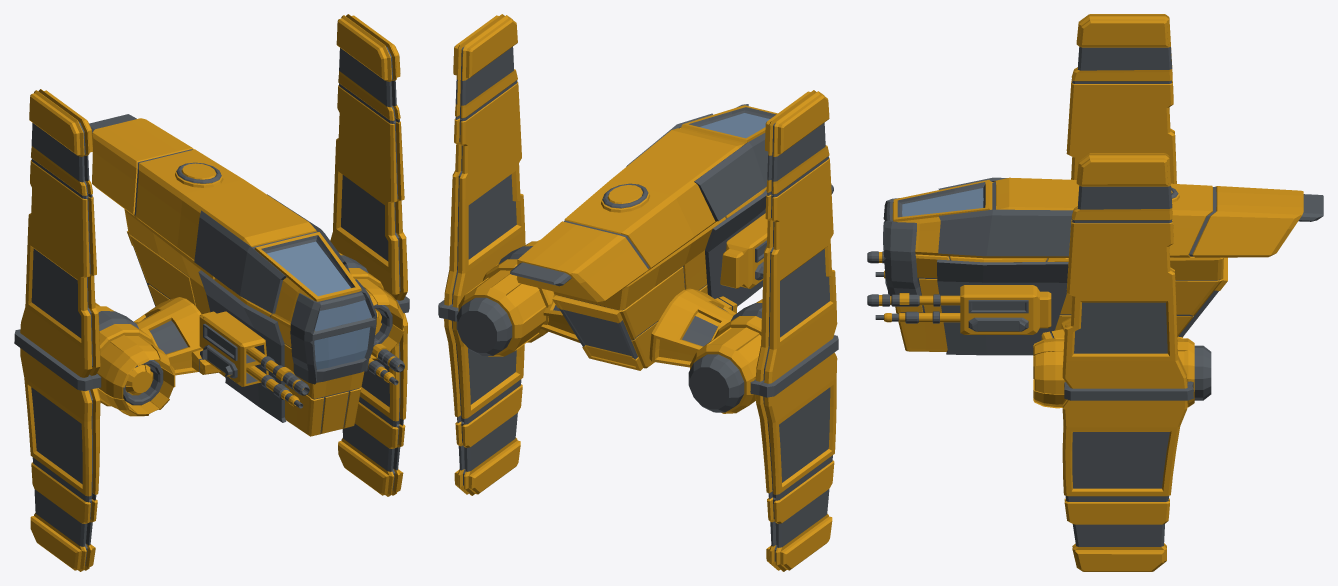
File: Fighter_05_Yellow.fbx
3 views of the same model, side by side, from view 1: azimuth 30°, elevation 25°; view 2: azimuth 150°, elevation 25°; view 3: azimuth 270°, elevation 25° (orthographic). The views are drawn at different scales.
Parts seen in each view (by area): view 1: Fighter_05_Yellow; view 2: Fighter_05_Yellow; view 3: Fighter_05_Yellow.
Part boxes in pixels (x1=…): Fighter_05_Yellow: x1=14, y1=14, x2=409, y2=571; Fighter_05_Yellow: x1=438, y1=14, x2=838, y2=571; Fighter_05_Yellow: x1=867, y1=14, x2=1323, y2=571.
Size of the model in its own units: 1401 by 1811 by 1801.
3 materials, 3 textured.
